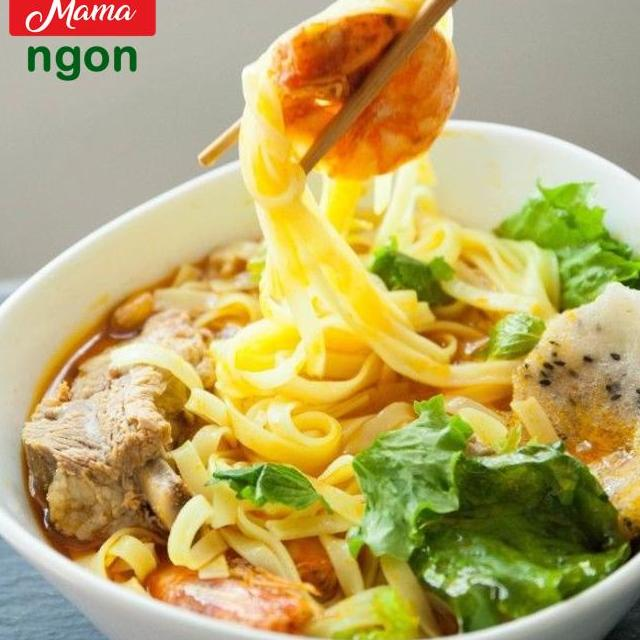banh da: (494, 273, 640, 548)
mi: (170, 0, 567, 478), (159, 419, 464, 640), (64, 520, 172, 608)
thit heo: (12, 302, 222, 550)
tom: (262, 5, 462, 182), (131, 522, 357, 640)
